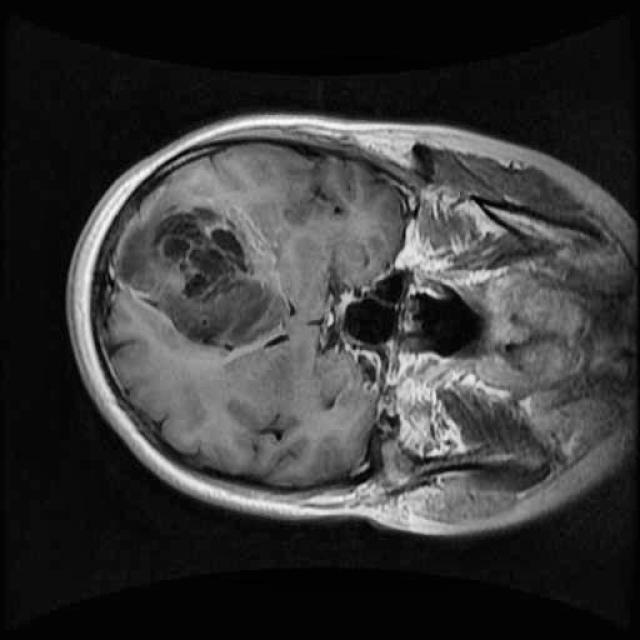Tumor: (99, 176, 308, 379)
